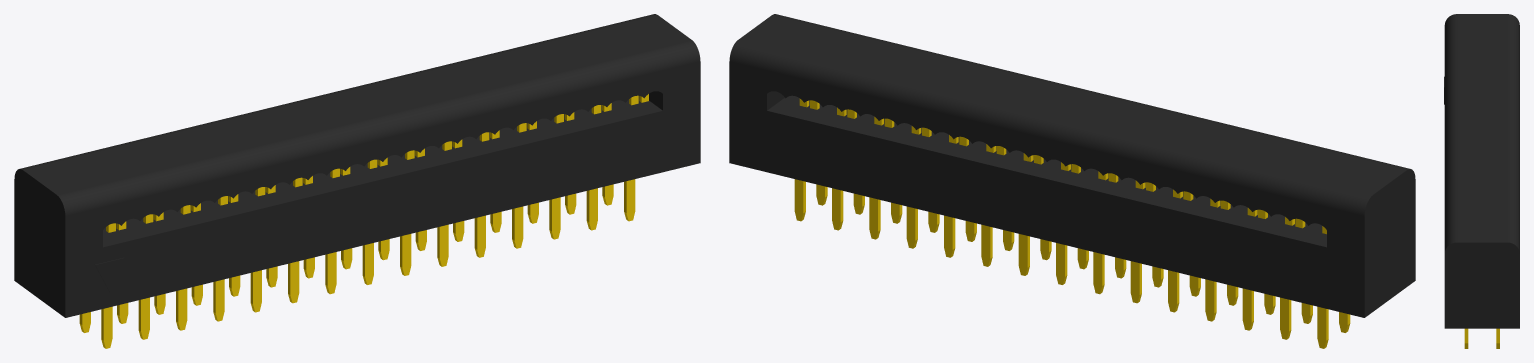
3 renders of one model, left to right at view 1: azimuth 30°, elevation 25°; view 2: azimuth 150°, elevation 25°; view 3: azimuth 270°, elevation 25°, orthographic. The views are drawn at different scales.
Visible parts, largest first — view 1: DS1018-30; view 2: DS1018-30; view 3: DS1018-30.
Boxes of the visible parts, bbox=[...] form: DS1018-30: bbox=[14, 14, 700, 348]; DS1018-30: bbox=[729, 14, 1415, 348]; DS1018-30: bbox=[1444, 14, 1519, 348].
Bounding box in the file's own units: 0.0432 × 0.0111 × 0.00605.
